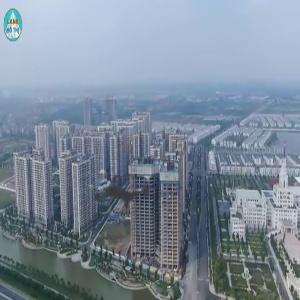drone: (70, 143, 170, 243)
